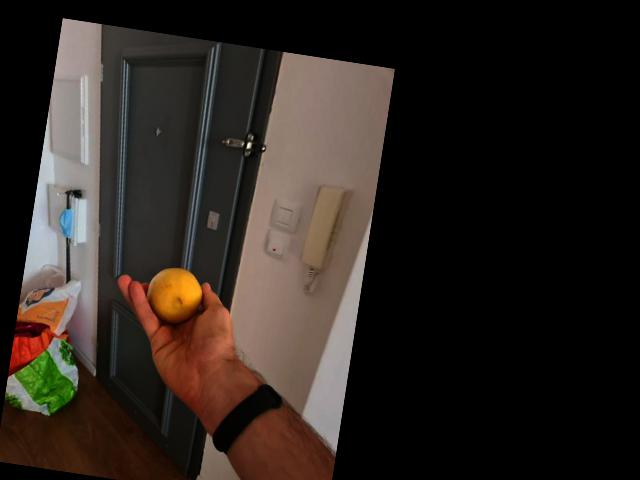lemon: (142, 262, 204, 328)
